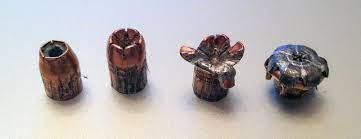Bullet: (178, 28, 250, 107), (262, 41, 334, 106), (104, 22, 153, 96), (37, 37, 85, 102)
